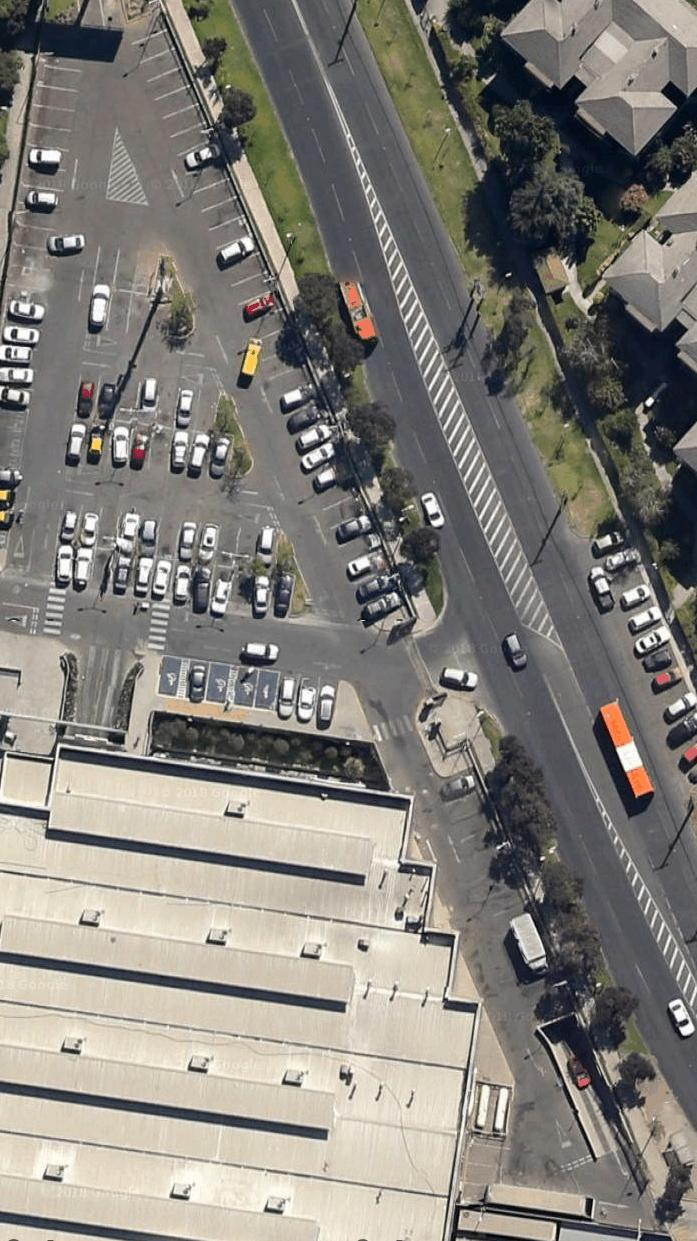parkingspot: (123, 6, 409, 628), (0, 61, 85, 410), (585, 526, 697, 771), (50, 542, 297, 619), (55, 503, 281, 577), (433, 766, 529, 925), (63, 416, 235, 480), (73, 372, 222, 434), (232, 665, 339, 721), (85, 285, 173, 338), (92, 245, 161, 297), (462, 1138, 514, 1189), (185, 658, 232, 706), (76, 0, 126, 32), (154, 653, 183, 699)
